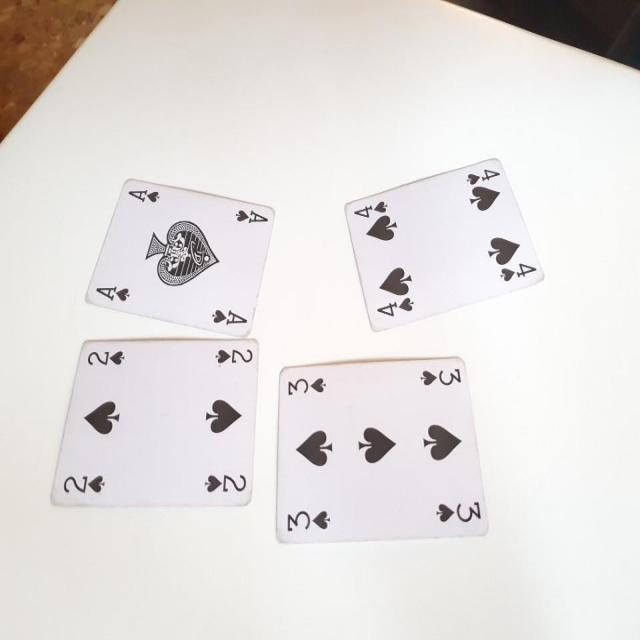2 of spades: (47, 334, 261, 512)
3 of spades: (274, 356, 488, 540)
4 of spades: (343, 158, 548, 330)
ace of spades: (82, 176, 272, 340)
